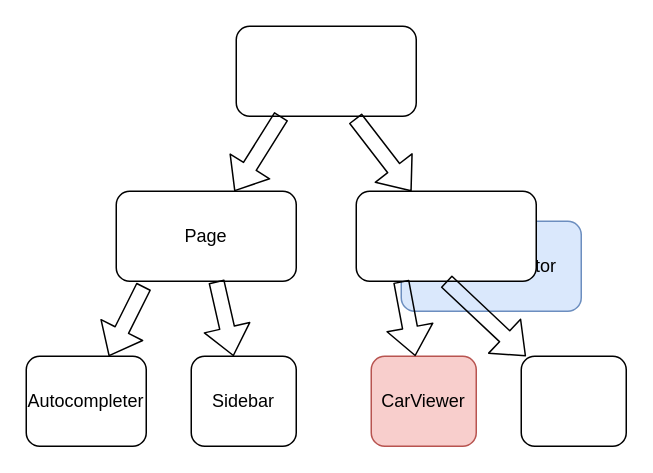
Image size: 653x473. Some labels were removed from this diagram. Each missing label, with the centre of its shape:
App: (325,70)
ChangeDetectionPage: (445,235)
